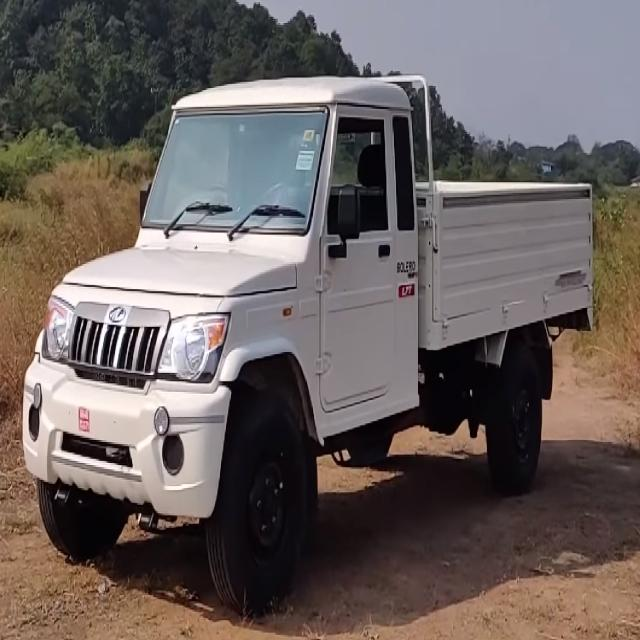light_vehicle: (19, 72, 594, 606)
